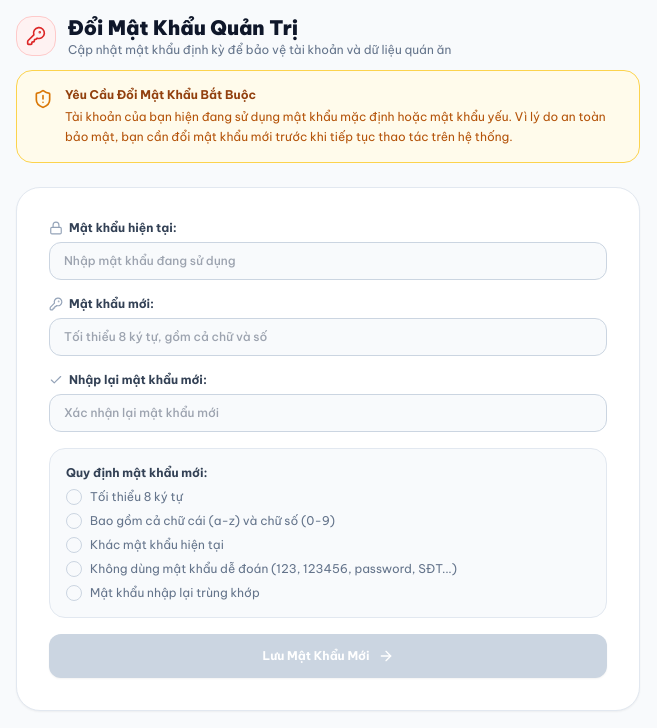
Test case: Sprint 9: ChangePassword Component (/admin/change-password) › submits changePassword request, shows success message, and retains session token
Type "123" into the password field with test id "current-password-input" at coordinates (328, 261), box [49, 242, 607, 280]
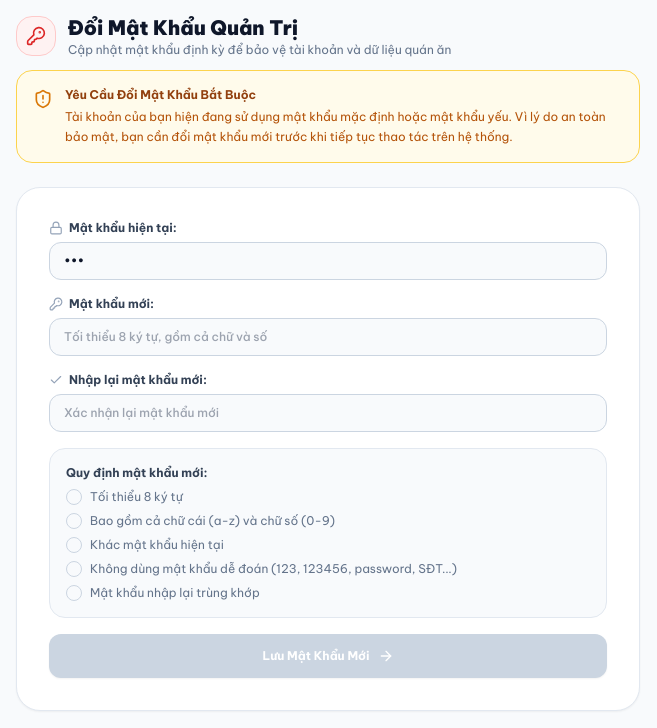
Type "NewSecret999" into the password field with test id "new-password-input" at coordinates (328, 337), box [49, 318, 607, 356]
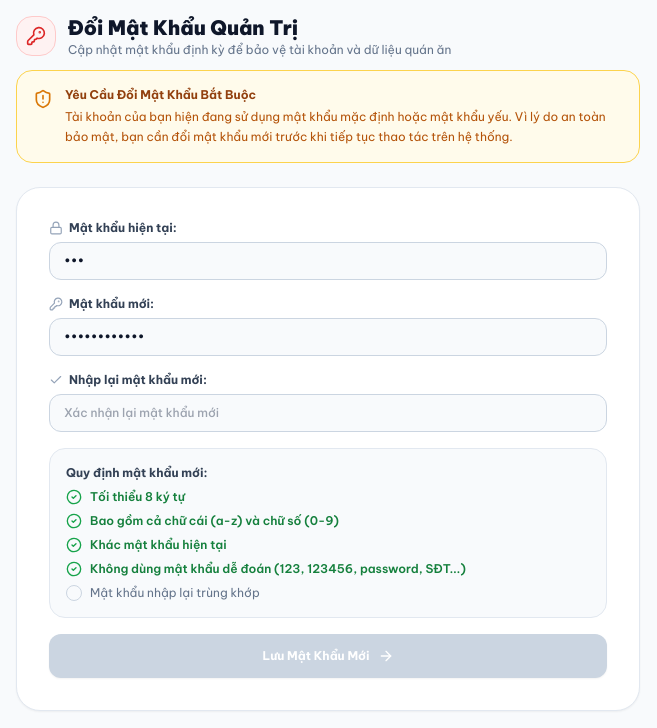
Type "NewSecret999" into the password field with test id "confirm-password-input" at coordinates (328, 413), box [49, 394, 607, 432]
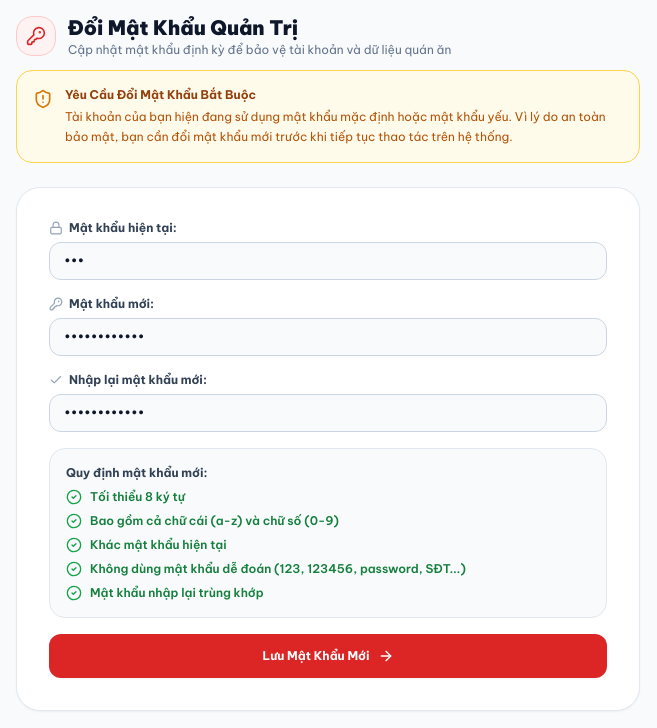
Click the button with test id "change-password-submit-btn" at coordinates (328, 656), box [49, 634, 607, 678]
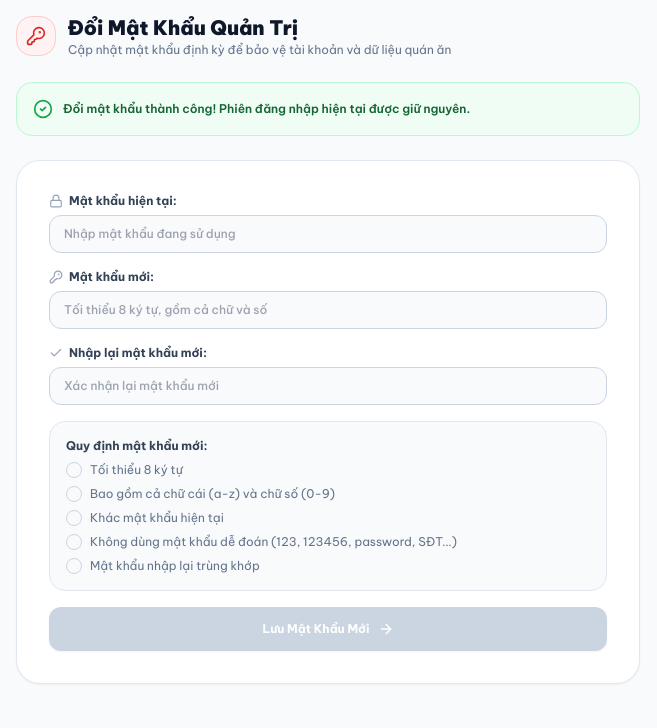
Now the element with test id "change-password-success-message" is shown, box [16, 82, 640, 136]
Now the text "Đổi mật khẩu thành công! Phiên đăng nhập hiện tại được giữ nguyên" is shown, box [63, 101, 470, 116]
